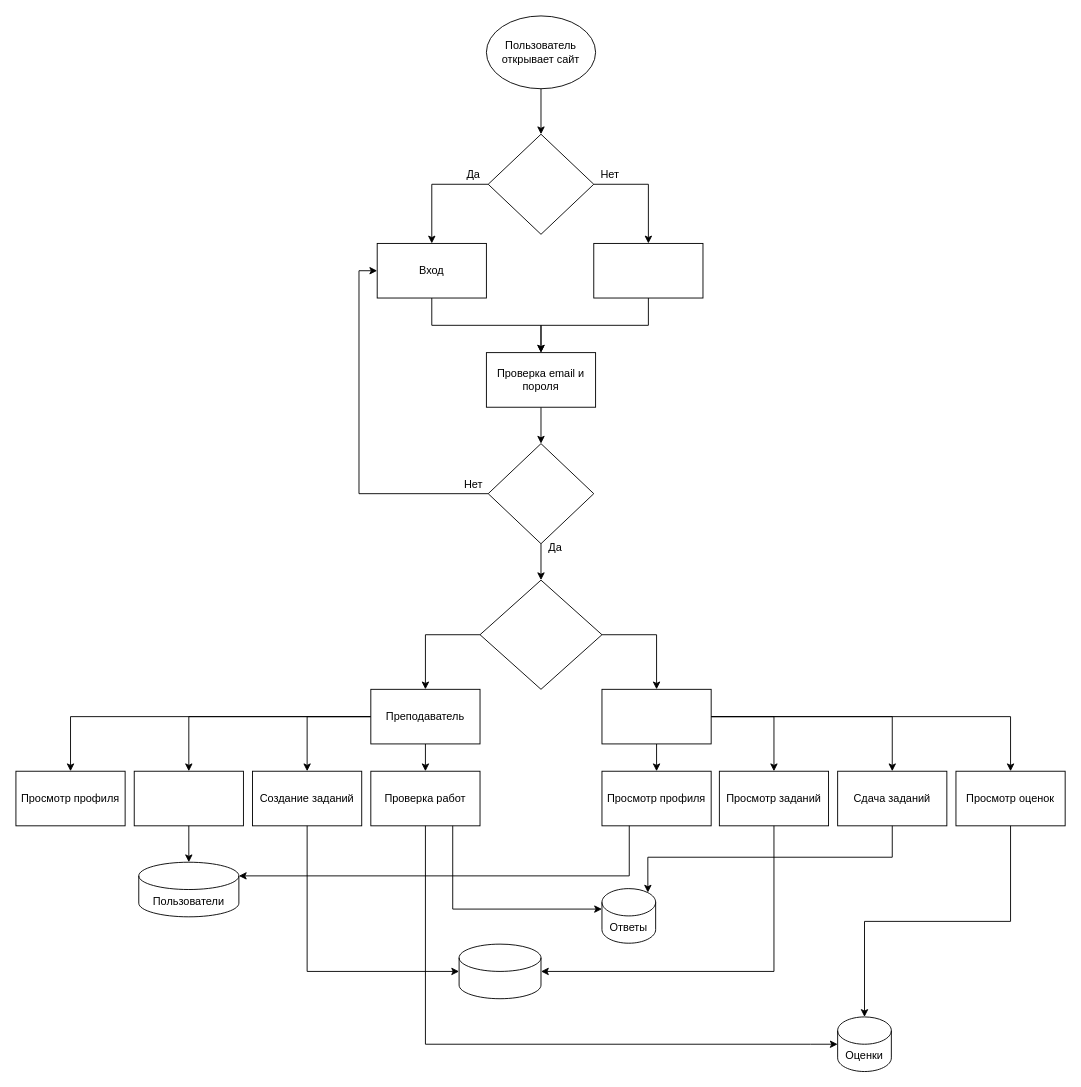
The diagram is 1081 pixels wide and 1087 high, and some of its shapes have lost their labels. Each missing label, with the centre of its shape:
"Валидация пройдена?" belongs at (540,493).
"Есть аккаунт?" belongs at (540,183).
"Задания" belongs at (499,971).
"Регистрация" belongs at (648,270).
"Роль пользователя" belongs at (540,634).
"Список студентов" belongs at (188,798).
"Студент" belongs at (656,716).
